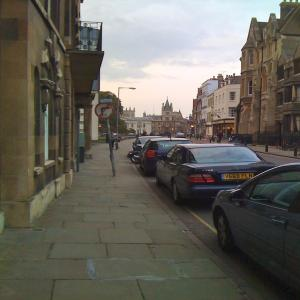Vehicle-registration-plate: (221, 172, 255, 181)
